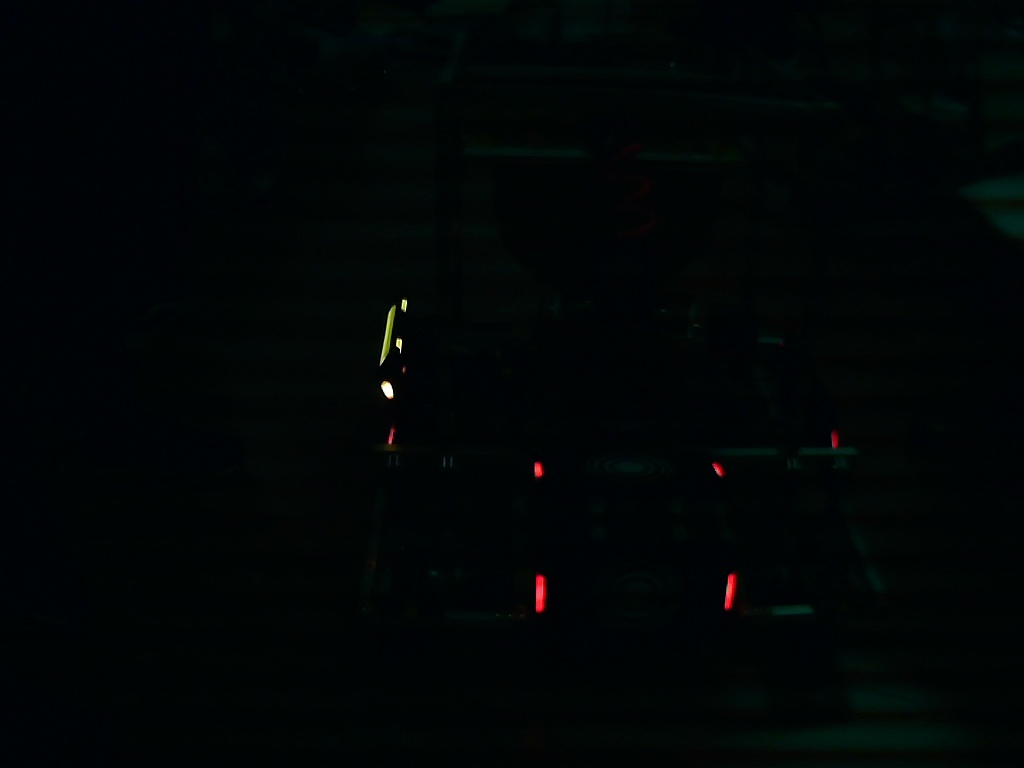lamp: (529, 570, 551, 618), (721, 571, 739, 613)
